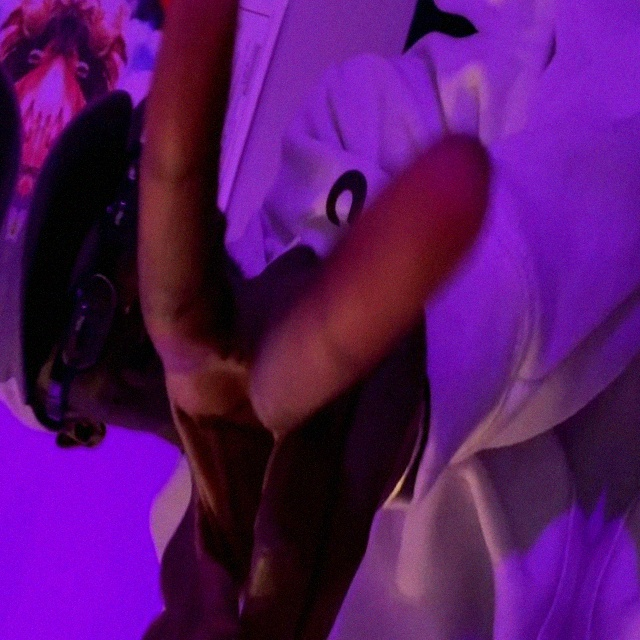Scissors: (13, 0, 538, 640)
